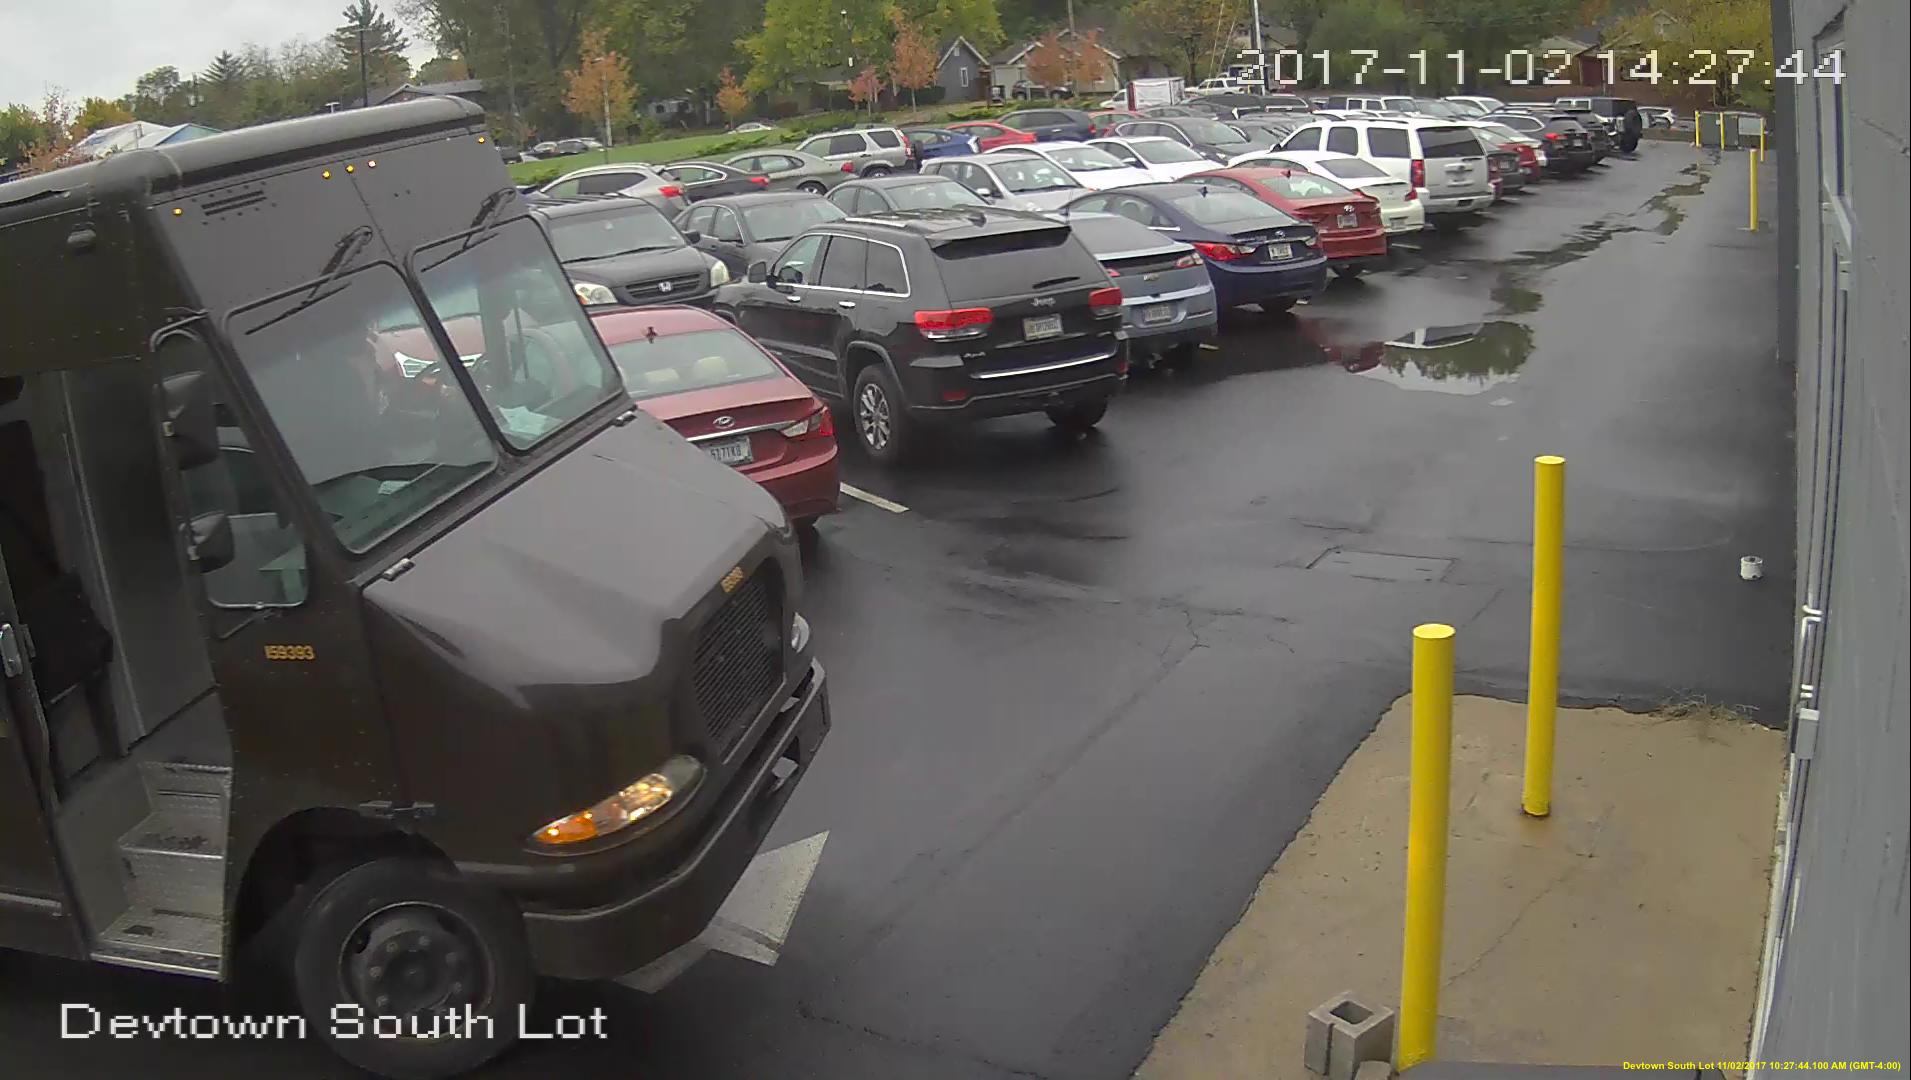ups_truck: (1, 94, 812, 1050)
